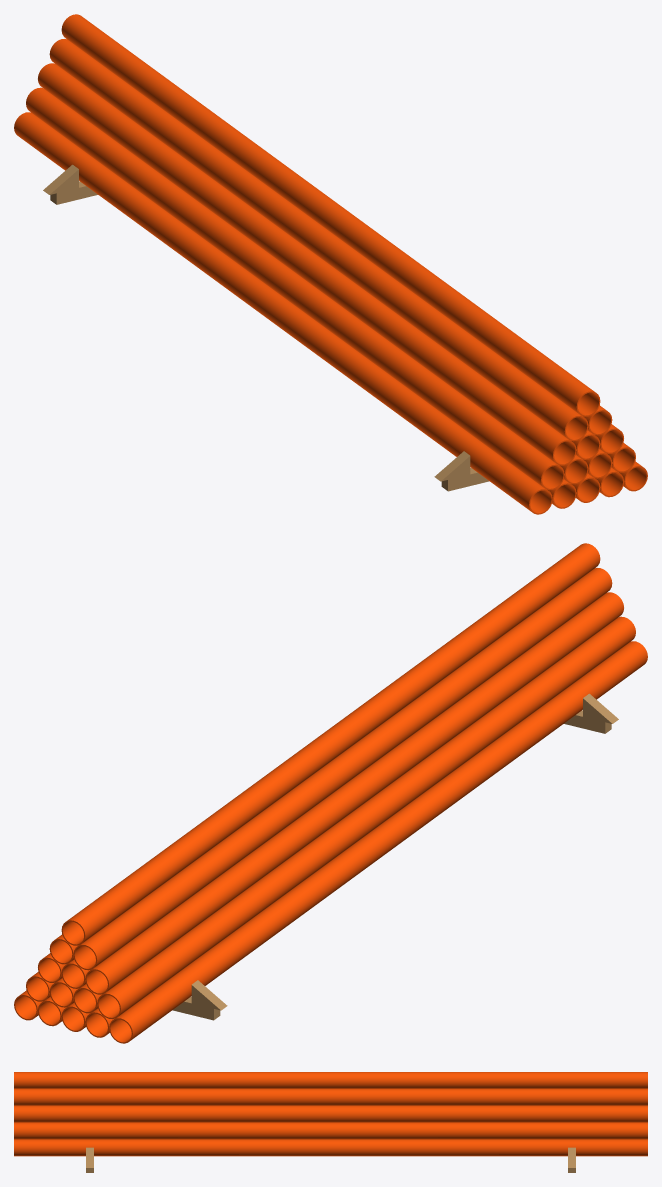
The model's file is plant.store.pipes.glb.
3 views of the same model, one above another, from view 1: azimuth 30°, elevation 25°; view 2: azimuth 150°, elevation 25°; view 3: azimuth 270°, elevation 25° (orthographic). The views are drawn at different scales.
Visible parts, largest first — view 1: main__hivis_orange, main__softwood; view 2: main__hivis_orange, main__softwood; view 3: main__hivis_orange, main__softwood.
Part boxes in pixels (<box>): main__hivis_orange: <box>14,14,647,514</box>; main__softwood: <box>43,164,489,491</box>; main__hivis_orange: <box>14,543,647,1043</box>; main__softwood: <box>172,693,618,1020</box>; main__hivis_orange: <box>14,1072,647,1156</box>; main__softwood: <box>86,1147,575,1172</box>.
Bounding box in the file's own units: 1.2 × 0.7893 × 6.
